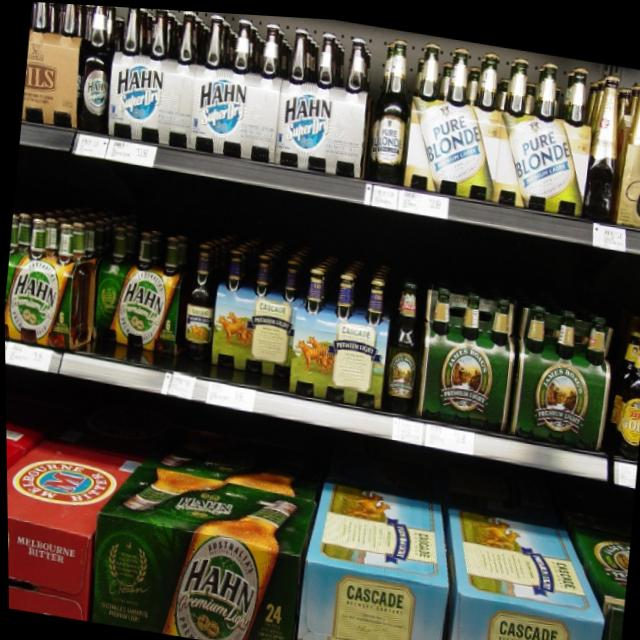q196: (94, 515, 299, 640)
